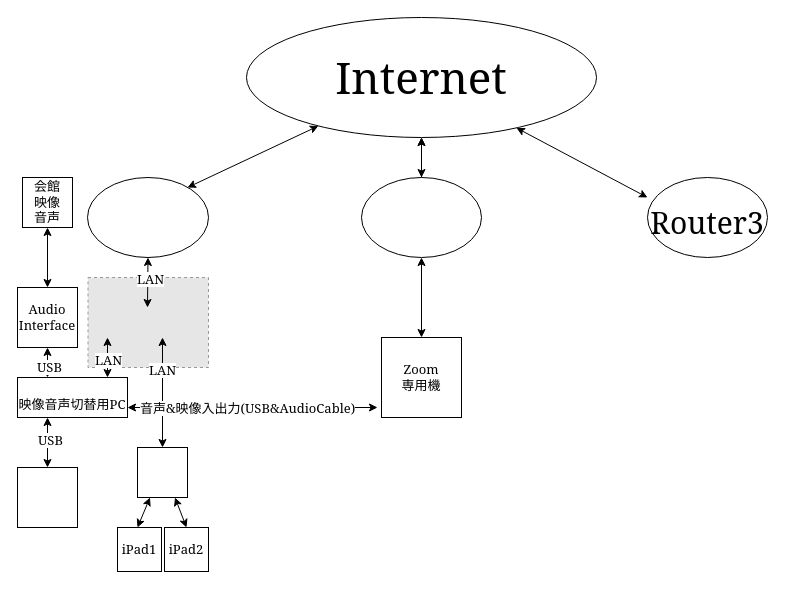
Image size: 785x589. Some labels were removed from this diagram. Grey dashed boxes stand in for pictures. Each missing label, with the box of its shape:
AP: (136, 446, 188, 498)
Router1: (86, 176, 208, 258)
Router2: (360, 176, 482, 258)
カメラ １~２: (16, 466, 78, 528)
